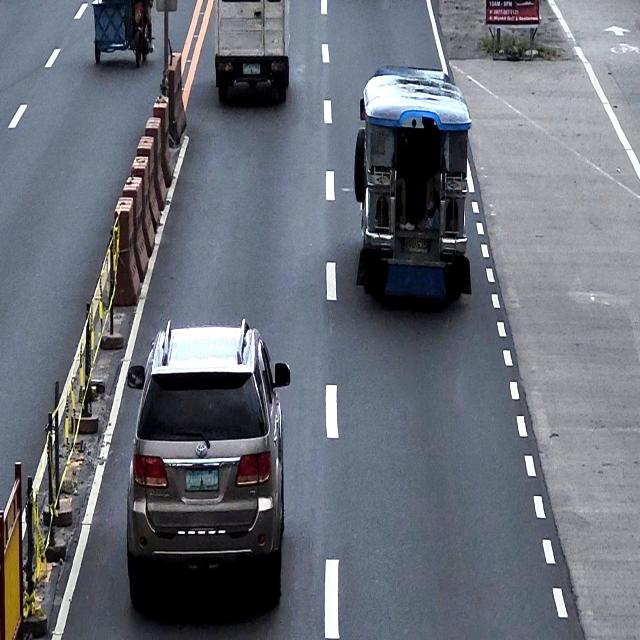Car: (126, 317, 290, 610)
Jeep: (354, 65, 472, 298)
License-Plate: (184, 468, 220, 493), (402, 236, 429, 255), (242, 62, 260, 76)
Truck: (214, 0, 290, 104)
